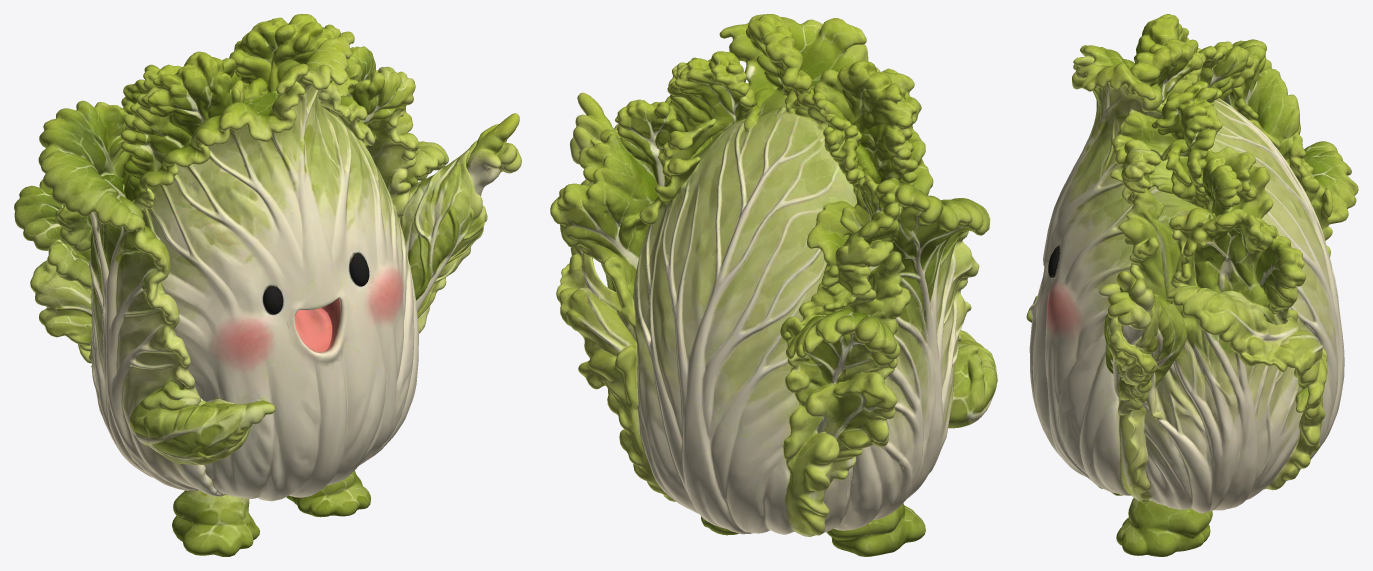
The model's file is bai-baicai.glb.
3 renders of one model, left to right at view 1: azimuth 30°, elevation 25°; view 2: azimuth 150°, elevation 25°; view 3: azimuth 270°, elevation 25°, orthographic. The views are drawn at different scales.
Size of the model in its own units: 1.77 by 1.9 by 1.19.
Materials: 1 (1 with a texture image).
